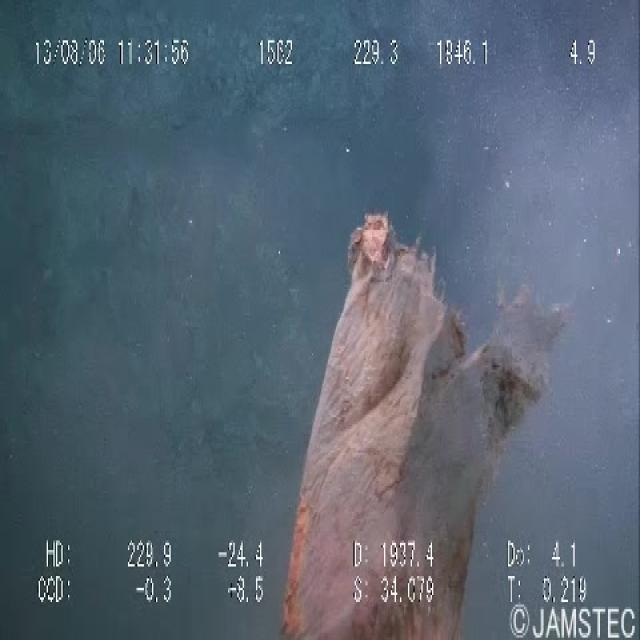plastic: (264, 202, 575, 638)
